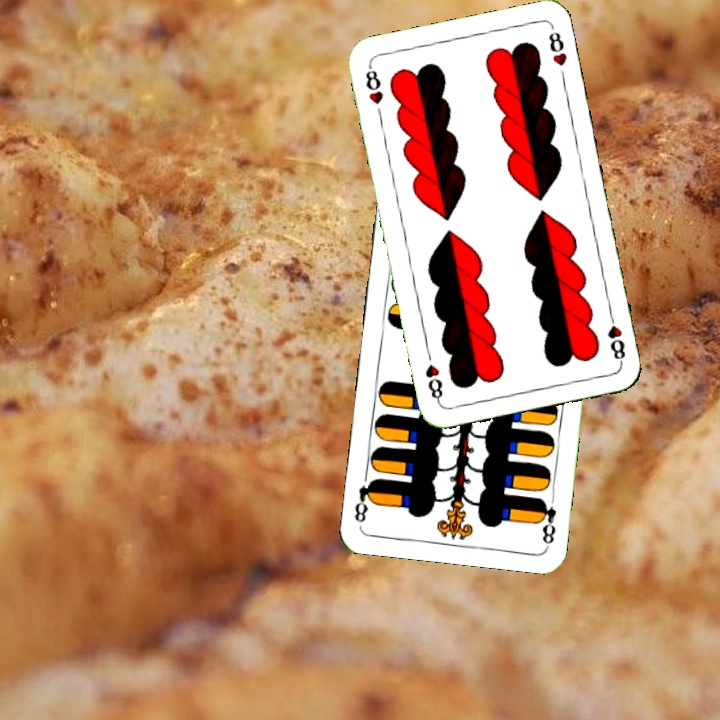E8: (534, 494, 559, 548)
H8: (603, 308, 628, 366), (361, 61, 386, 107)
